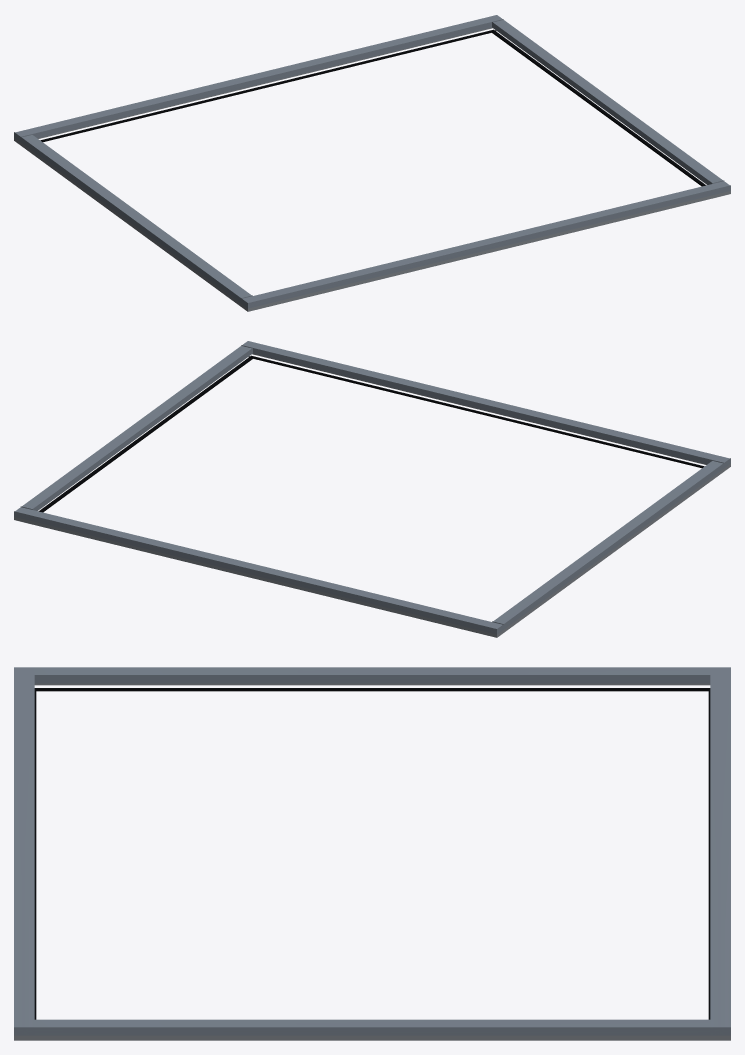
Rendered from tt_roof_plant_cutout.glb.
The picture shows the model from 3 angles, top to bottom: view 1: azimuth 30°, elevation 25°; view 2: azimuth 150°, elevation 25°; view 3: azimuth 270°, elevation 25°; orthographic projection. The views are drawn at different scales.
Parts seen in each view (by area): view 1: Collar, Deck, Gutter; view 2: Collar, Deck, Gutter; view 3: Collar, Deck, Gutter.
Boxes of the visible parts, <box> form: Collar: <box>14,15,730,308</box>; Deck: <box>14,27,730,311</box>; Gutter: <box>40,29,706,186</box>; Collar: <box>14,341,730,634</box>; Deck: <box>14,353,730,637</box>; Gutter: <box>38,355,704,512</box>; Collar: <box>14,667,730,1035</box>; Deck: <box>14,683,730,1040</box>; Gutter: <box>34,688,710,1019</box>.
Size of what is drawn, in the model's own units: 12.4 by 0.255 by 10.4.
3 materials, 2 textured.
